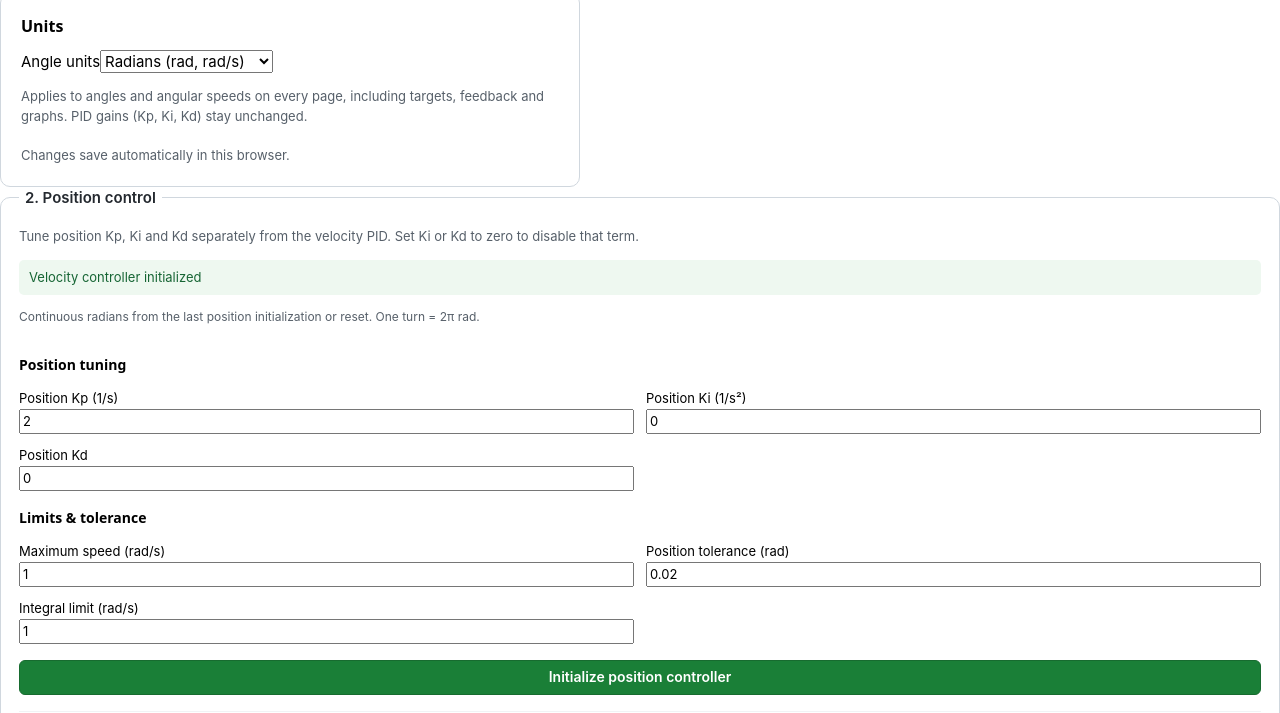
Test: position controls › rejects blank settings without sending and blocks keyboard conflicts
Clear the number field labelled "Maximum speed (rad/s)": (326, 574) x1=19 y1=562 x2=634 y2=587
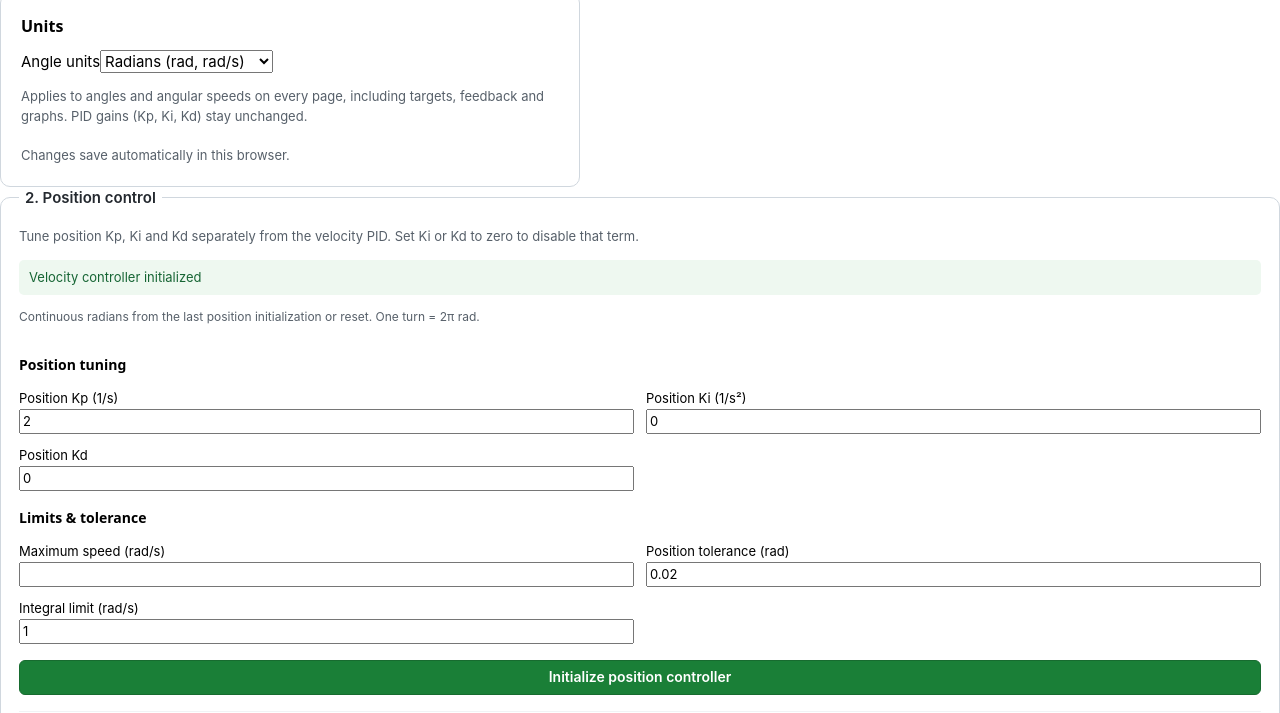
Click the button "Initialize position controller": (640, 677) x1=19 y1=660 x2=1261 y2=695
(page scrolled)
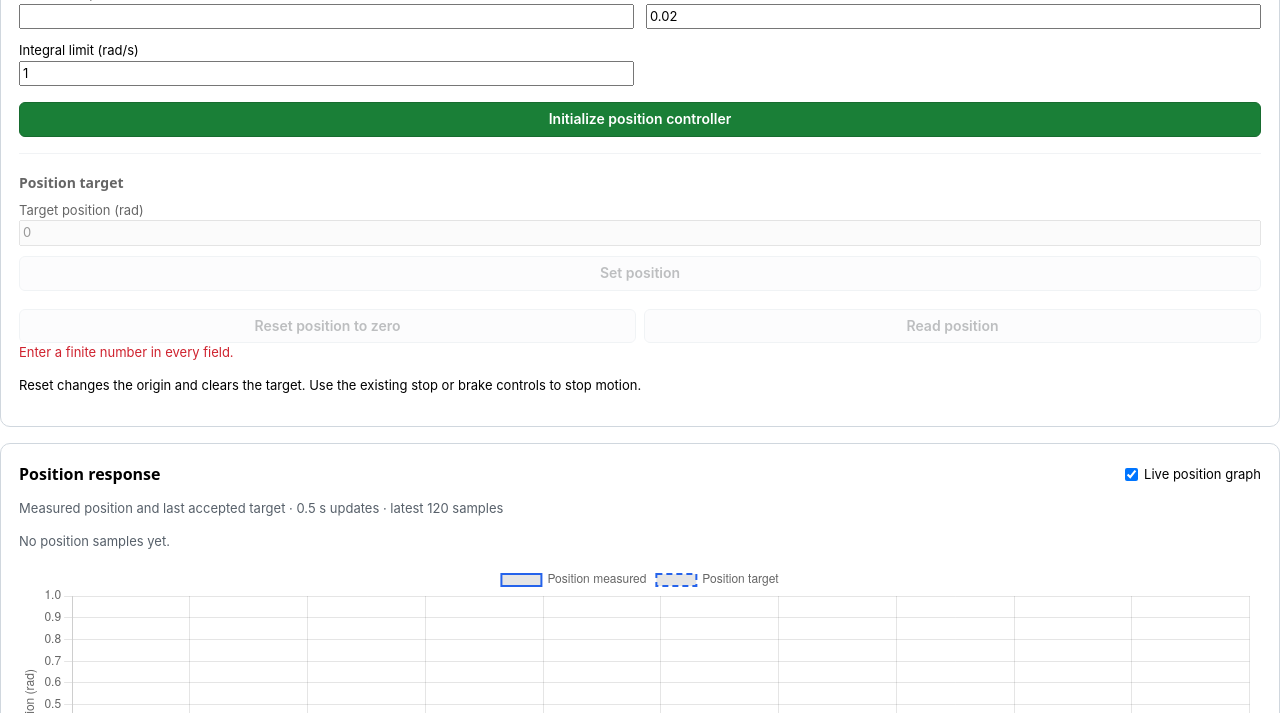
Now the message shows "finite number", box x1=19 y1=344 x2=234 y2=360
